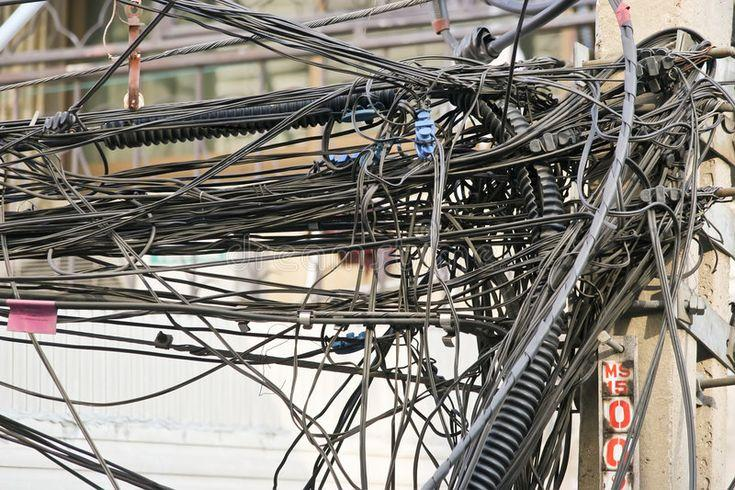wires-only: (0, 54, 689, 373)
